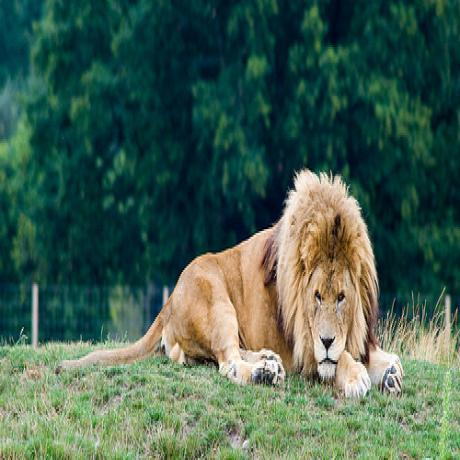Lion: (154, 165, 404, 395)
